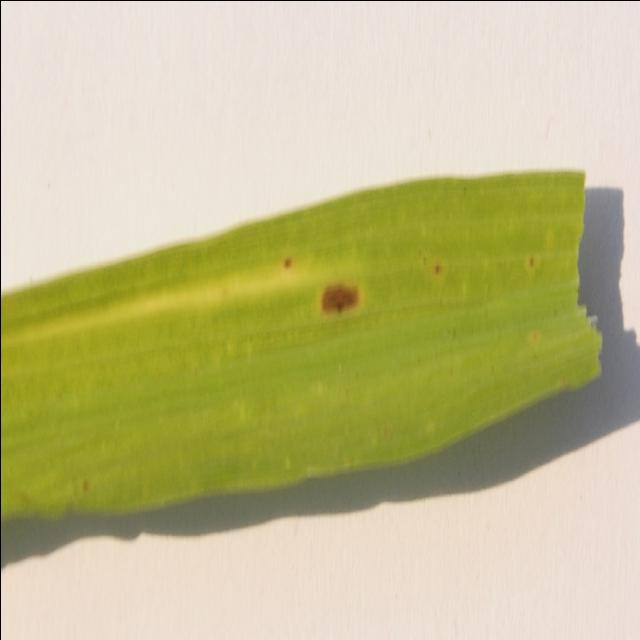Unhealthy: (3, 272, 294, 355), (318, 282, 359, 316), (525, 255, 537, 273), (433, 263, 440, 278), (284, 256, 290, 268)
